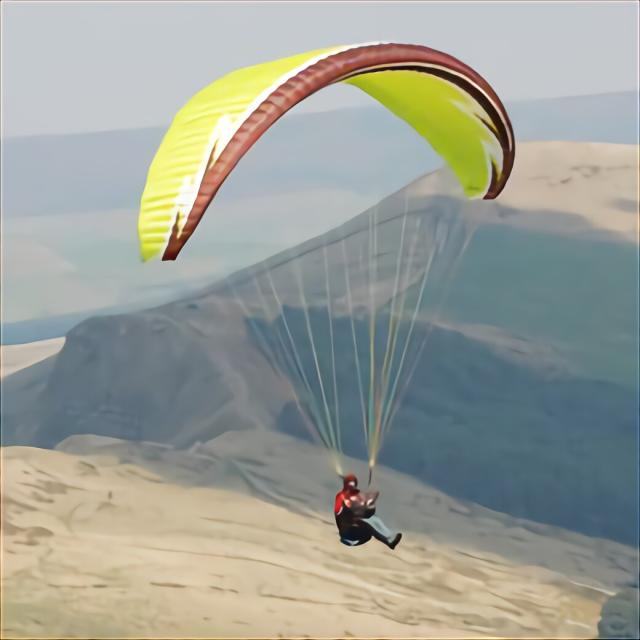paraglider: (137, 36, 524, 267)
